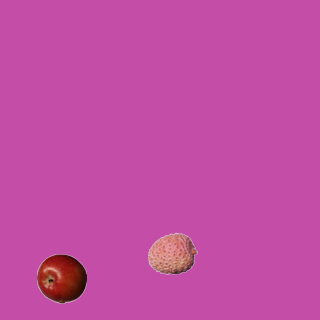Apple Braeburn: (36, 253, 86, 303)
Lychee: (147, 228, 197, 278)
